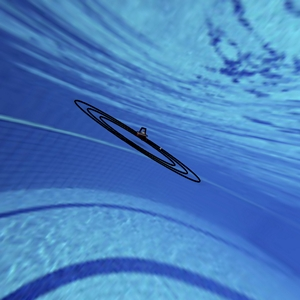circle: (66, 88, 213, 188)
submarine: (127, 119, 154, 147)
